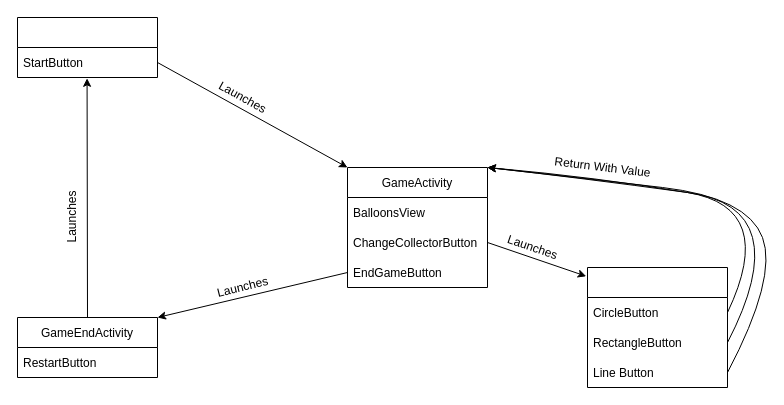
This 784x405 diagram has some shape labels left out. The shapes that lost their labels are listed below. From the top down, each one's box as (x1, y1, x2, y2) in pixels, then its label:
(16, 16, 158, 78): StartActivity
(586, 266, 728, 388): SelectCollectorActivity
